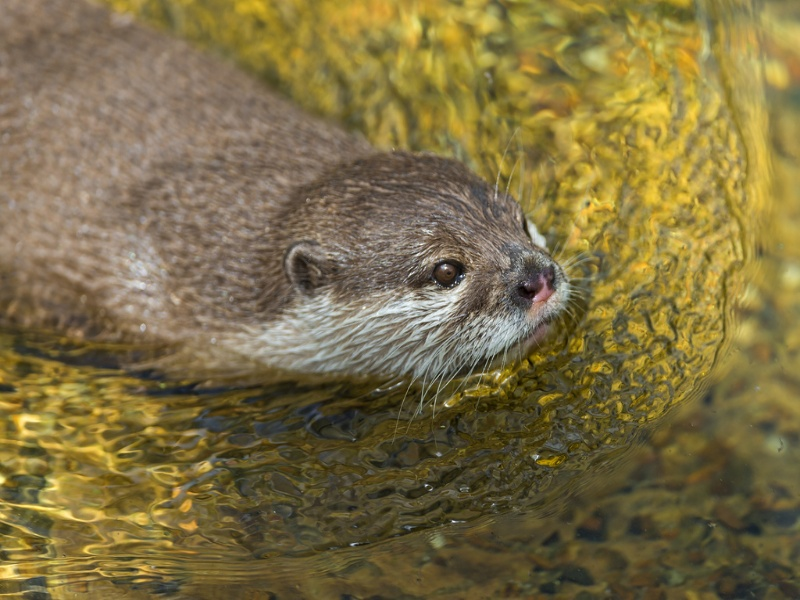minkish: (5, 1, 582, 391)
